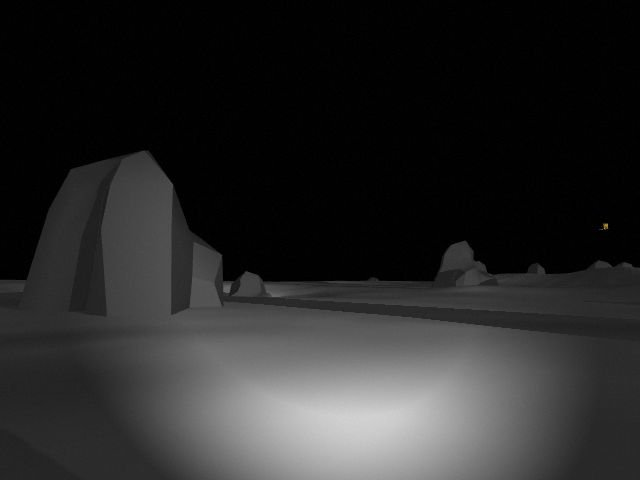cubesat: (601, 221, 611, 232)
